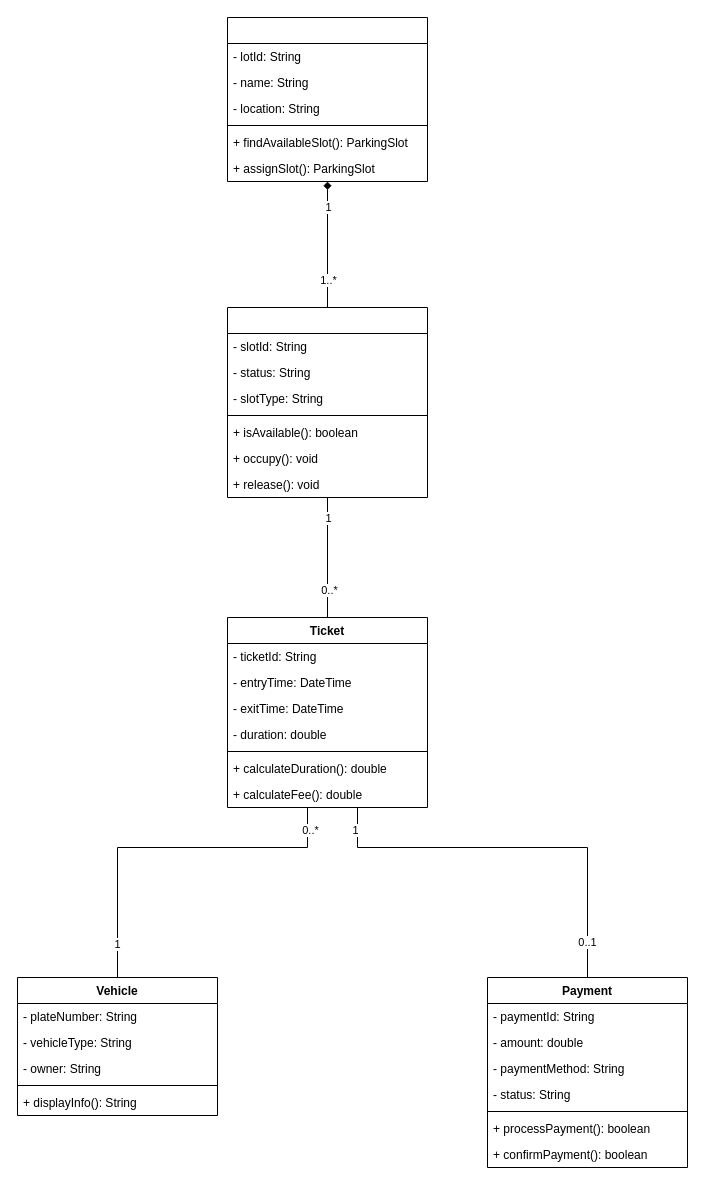
This 705x1188 diagram has some shape labels left out. Here are the shapes that lost their labels. From the top down, the box of each, then its label:
(226, 16, 428, 182): ParkingLot
(226, 306, 428, 498): ParkingSlot
